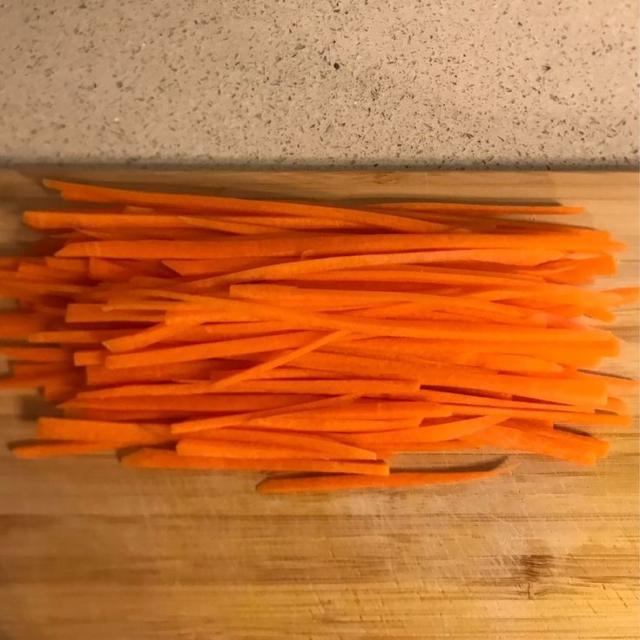carrot: (163, 292, 612, 342), (45, 181, 443, 233), (57, 233, 625, 265), (294, 353, 606, 404), (192, 249, 562, 289), (230, 284, 528, 317), (343, 336, 619, 366), (106, 332, 317, 369), (64, 393, 322, 423), (216, 332, 348, 388), (122, 449, 389, 476), (172, 395, 355, 433), (257, 468, 512, 493), (23, 211, 278, 233), (197, 429, 376, 459), (297, 267, 548, 288), (465, 426, 599, 464), (440, 404, 633, 428), (350, 417, 501, 446), (415, 389, 595, 412), (209, 378, 419, 397), (288, 399, 451, 423), (37, 418, 175, 445), (87, 361, 232, 386), (246, 414, 420, 433), (176, 438, 330, 459), (367, 202, 585, 216), (104, 323, 192, 353), (164, 257, 281, 275), (66, 304, 163, 323), (545, 429, 610, 457), (371, 441, 478, 458), (11, 442, 118, 459), (177, 217, 281, 234), (470, 354, 563, 373), (28, 329, 130, 344), (17, 263, 86, 283), (0, 312, 49, 338), (0, 372, 79, 388), (0, 346, 72, 362), (13, 362, 74, 378), (44, 256, 87, 274), (604, 287, 639, 304), (74, 349, 107, 366), (585, 308, 615, 322), (0, 256, 23, 270)
